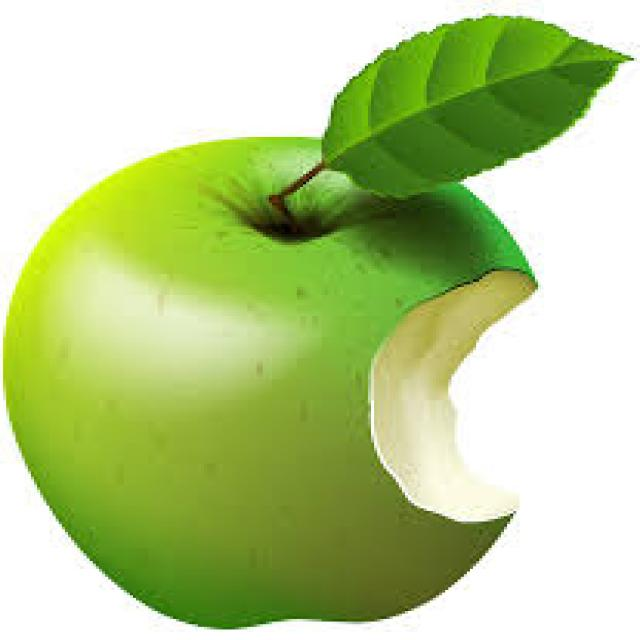Used Apple: (6, 136, 532, 624)
